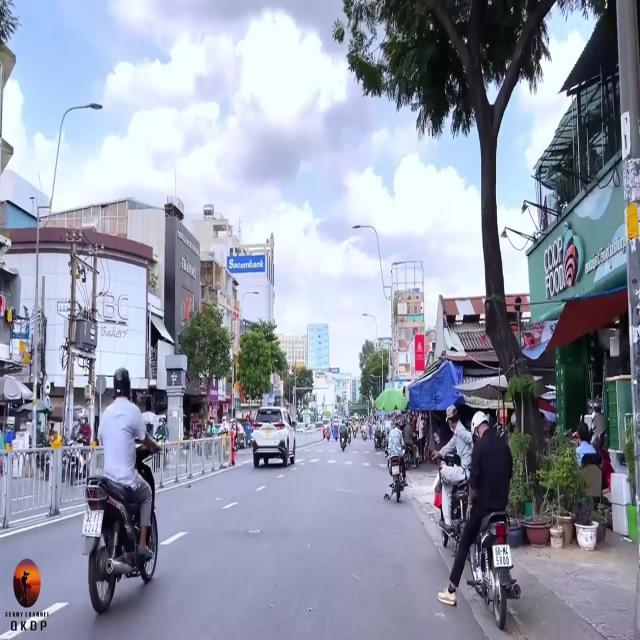bien_trang: (83, 506, 104, 542), (492, 542, 514, 570)
